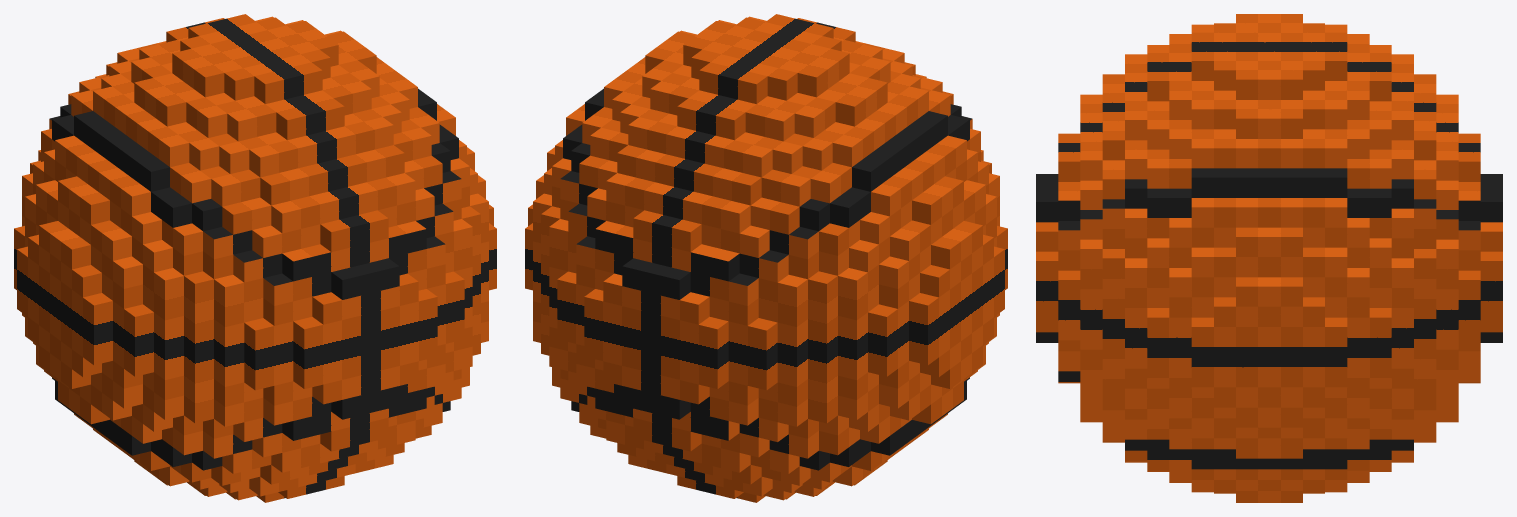
The model's file is ball.glb.
3 views of the same model, side by side, from view 1: azimuth 30°, elevation 25°; view 2: azimuth 150°, elevation 25°; view 3: azimuth 270°, elevation 25° (orthographic).
Visible parts, largest first — view 1: cube_162, cube_158, cube_311, cube_248, cube_263, cube_281, cube_131, cube_208, cube_280, cube_249, cube_266, cube_164 (+98 smaller); view 2: cube_161, cube_158, cube_311, cube_247, cube_264, cube_282, cube_132, cube_207, cube_280, cube_249, cube_266, cube_166 (+98 smaller); view 3: cube_155, cube_311, cube_254, cube_265, cube_279, cube_214, cube_133, cube_134, cube_156, cube_157, cube_184, cube_60 (+94 smaller).
Part boxes in pixels (left/top/right/bottom): cube_162: left=293, top=289, right=437, bottom=388; cube_158: left=17, top=246, right=112, bottom=365; cube_311: left=172, top=21, right=338, bottom=97; cube_248: left=271, top=173, right=415, bottom=233; cube_263: left=260, top=145, right=404, bottom=205; cube_281: left=249, top=117, right=393, bottom=177; cube_131: left=184, top=271, right=213, bottom=423; cube_208: left=282, top=221, right=426, bottom=281; cube_280: left=93, top=86, right=189, bottom=167; cube_249: left=55, top=135, right=150, bottom=216; cube_266: left=74, top=111, right=169, bottom=191; cube_164: left=244, top=318, right=293, bottom=390; cube_161: left=584, top=289, right=728, bottom=388; cube_158: left=909, top=246, right=1004, bottom=365; cube_311: left=683, top=21, right=849, bottom=97; cube_247: left=606, top=173, right=750, bottom=233; cube_264: left=617, top=145, right=761, bottom=205; cube_282: left=628, top=117, right=772, bottom=177; cube_132: left=808, top=271, right=837, bottom=423; cube_207: left=595, top=221, right=739, bottom=281; cube_280: left=832, top=86, right=928, bottom=167; cube_249: left=871, top=135, right=966, bottom=216; cube_266: left=852, top=111, right=947, bottom=191; cube_166: left=728, top=318, right=777, bottom=390; cube_155: left=1191, top=317, right=1347, bottom=387; cube_311: left=1236, top=14, right=1302, bottom=99; cube_254: left=1191, top=198, right=1347, bottom=227; cube_265: left=1191, top=168, right=1347, bottom=197; cube_279: left=1191, top=139, right=1347, bottom=168; cube_214: left=1191, top=247, right=1347, bottom=277; cube_133: left=1414, top=249, right=1436, bottom=399; cube_134: left=1102, top=249, right=1124, bottom=399; cube_156: left=1147, top=308, right=1191, bottom=377; cube_157: left=1347, top=308, right=1391, bottom=377; cube_184: left=1214, top=297, right=1324, bottom=326; cube_60: left=1191, top=449, right=1347, bottom=469.
Bounding box in the file's own units: 1.31 × 1.31 × 1.31.
Materials: 1 (1 with a texture image).
